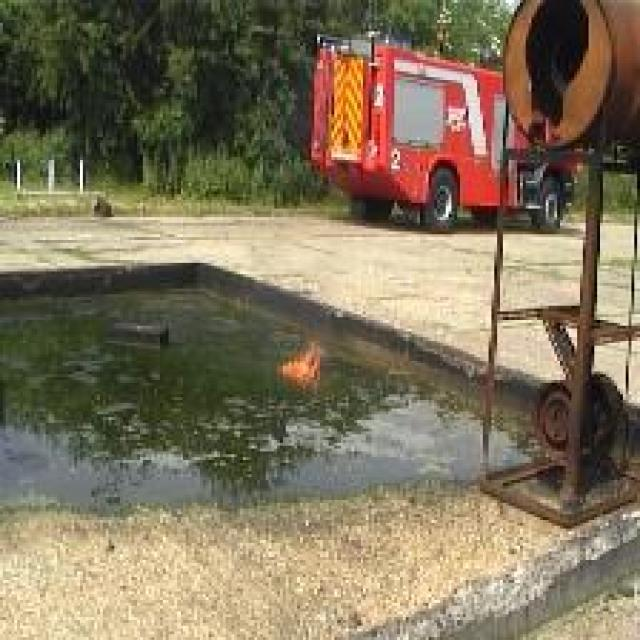fire: (275, 338, 326, 386)
